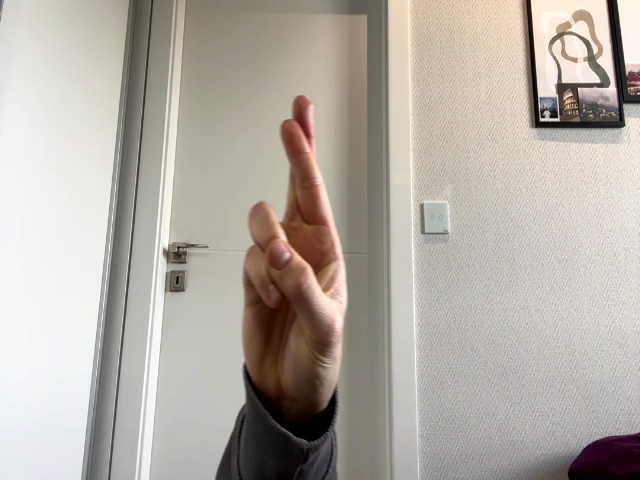R: (242, 95, 348, 394)
